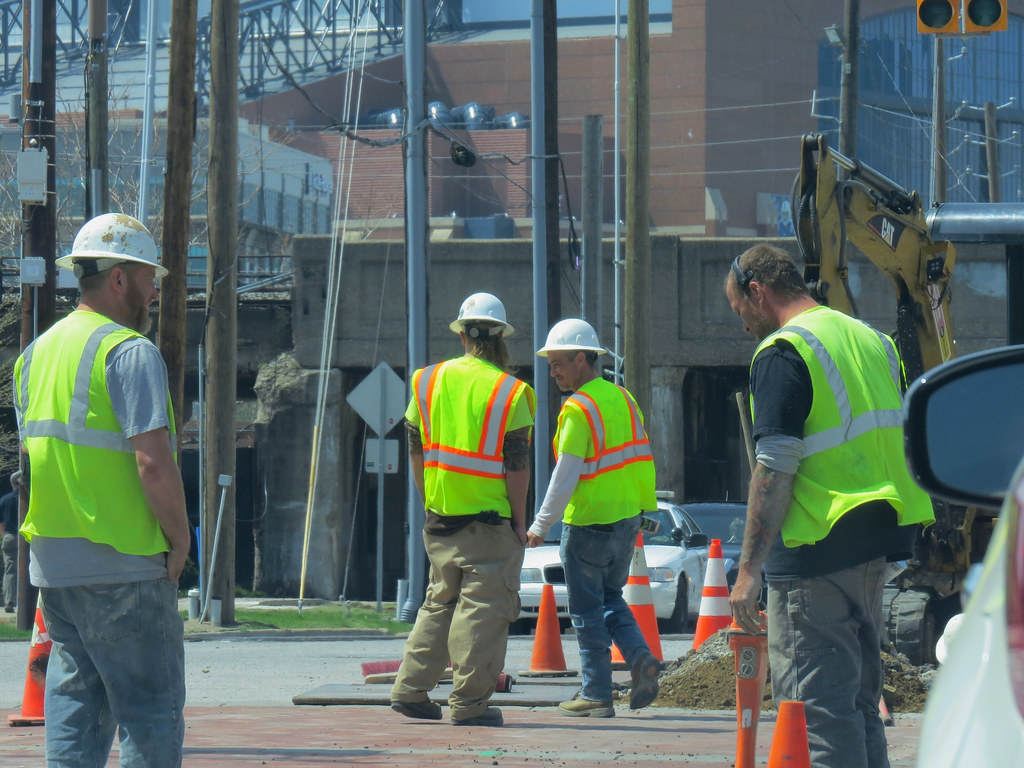Hard Hat: (68, 218, 169, 337), (445, 294, 514, 369), (543, 320, 608, 396)
Person: (720, 243, 932, 767), (29, 216, 191, 766), (393, 291, 538, 725), (538, 321, 667, 719)
Vest: (725, 250, 933, 543), (25, 260, 184, 553), (404, 315, 535, 519), (542, 354, 660, 525)
